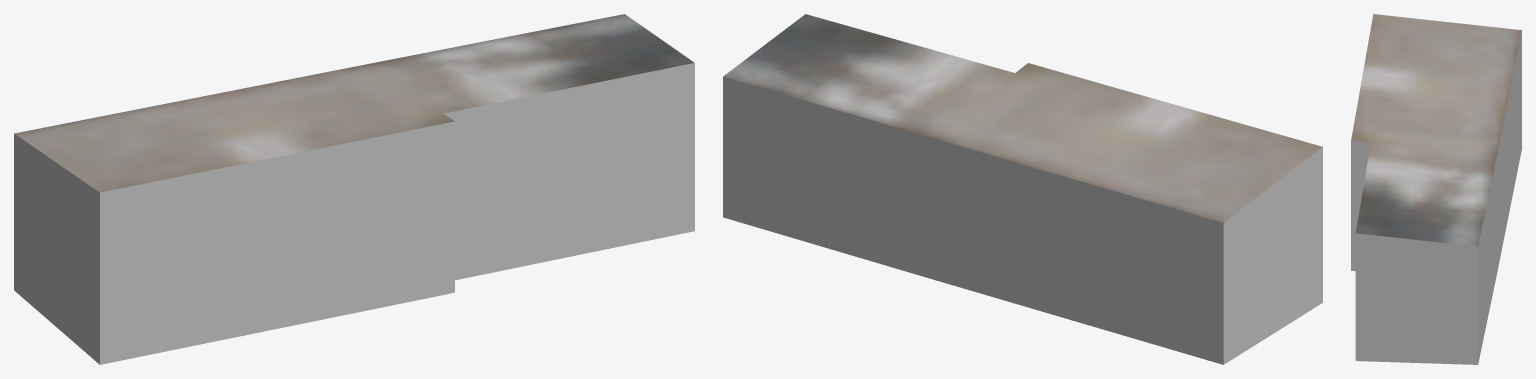
Rendered from DEBW_0010007Tx6d.gltf.
3 views of the same model, side by side, from view 1: azimuth 30°, elevation 25°; view 2: azimuth 150°, elevation 25°; view 3: azimuth 270°, elevation 25° (orthographic). The views are drawn at different scales.
Parts seen in each view (by area): view 1: Z_UP; view 2: Z_UP; view 3: Z_UP.
Part boxes in pixels (bbox=[...]): Z_UP: bbox=[14, 14, 694, 364]; Z_UP: bbox=[723, 14, 1322, 364]; Z_UP: bbox=[1351, 14, 1521, 364].
Bounding box in the file's own units: 12.37 × 3.43 × 4.06.
Materials: 2 (1 with a texture image).
